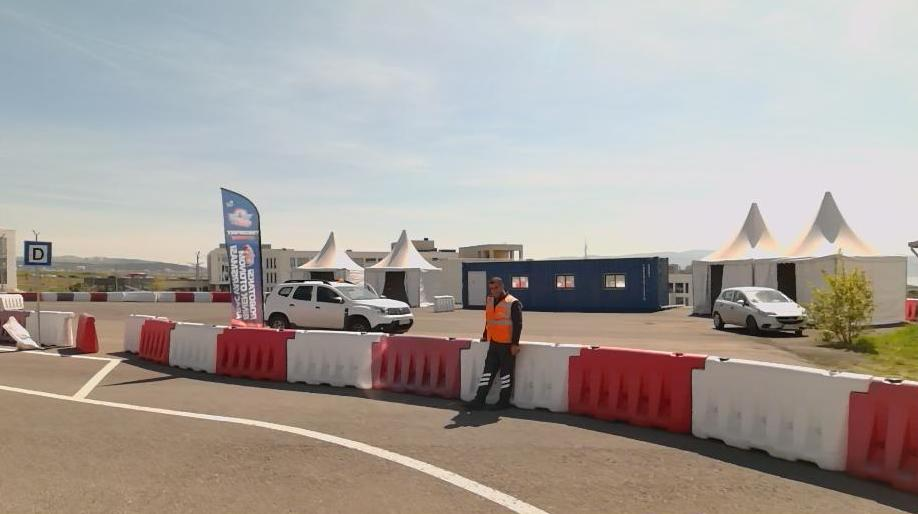nesne: (0, 384, 547, 512), (1, 384, 504, 493), (690, 357, 871, 472), (569, 344, 703, 433), (463, 275, 525, 409), (848, 377, 917, 494), (262, 279, 414, 332), (372, 333, 471, 399), (0, 346, 121, 398), (286, 329, 378, 388), (711, 287, 808, 336), (515, 341, 581, 412), (216, 326, 293, 380), (169, 322, 222, 372), (25, 311, 76, 345), (123, 315, 169, 351), (138, 321, 173, 362), (6, 319, 44, 350), (74, 313, 99, 355), (0, 310, 27, 342), (106, 291, 176, 302), (24, 240, 51, 266), (434, 295, 455, 312), (1, 293, 23, 309), (213, 291, 232, 302), (175, 291, 194, 302), (192, 291, 212, 301), (91, 290, 105, 302), (74, 291, 89, 302), (23, 291, 39, 301), (57, 292, 73, 301), (41, 291, 55, 301)
